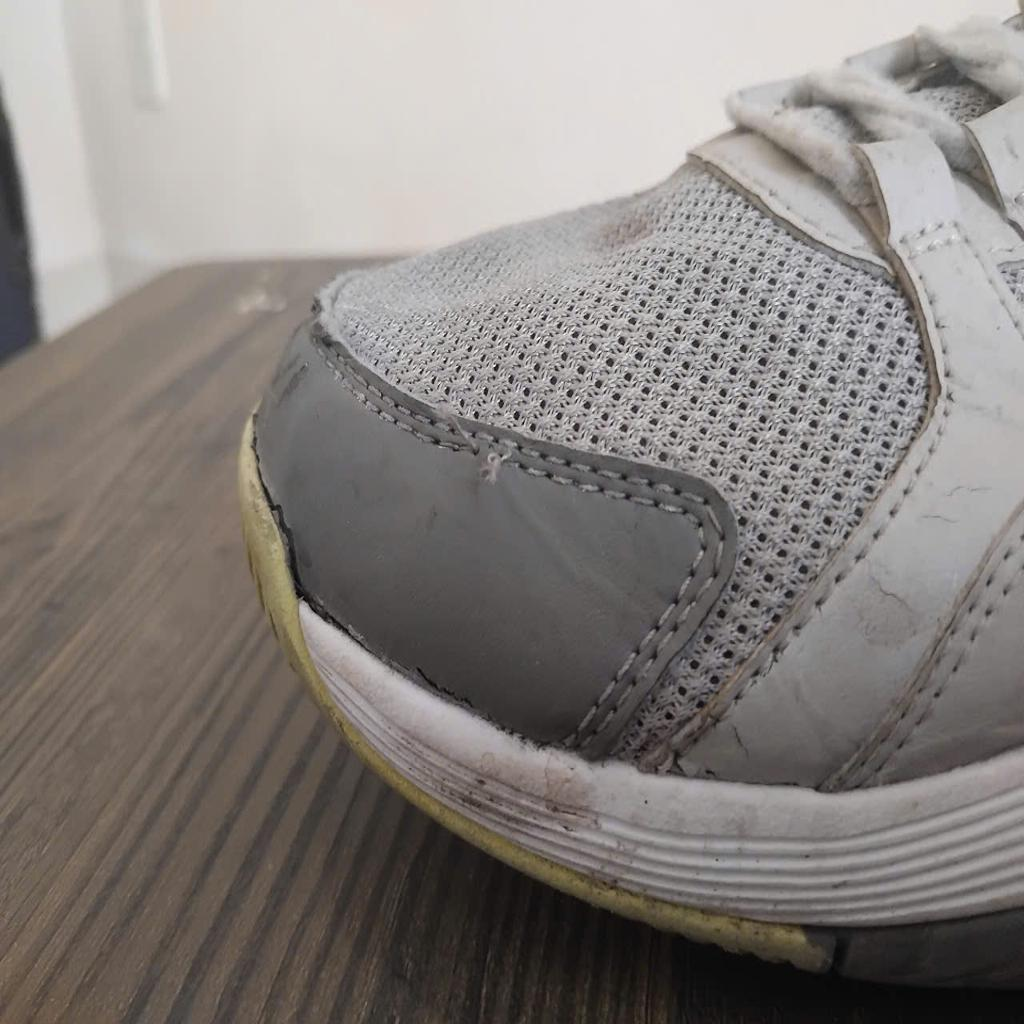broken: (445, 415, 512, 479)
